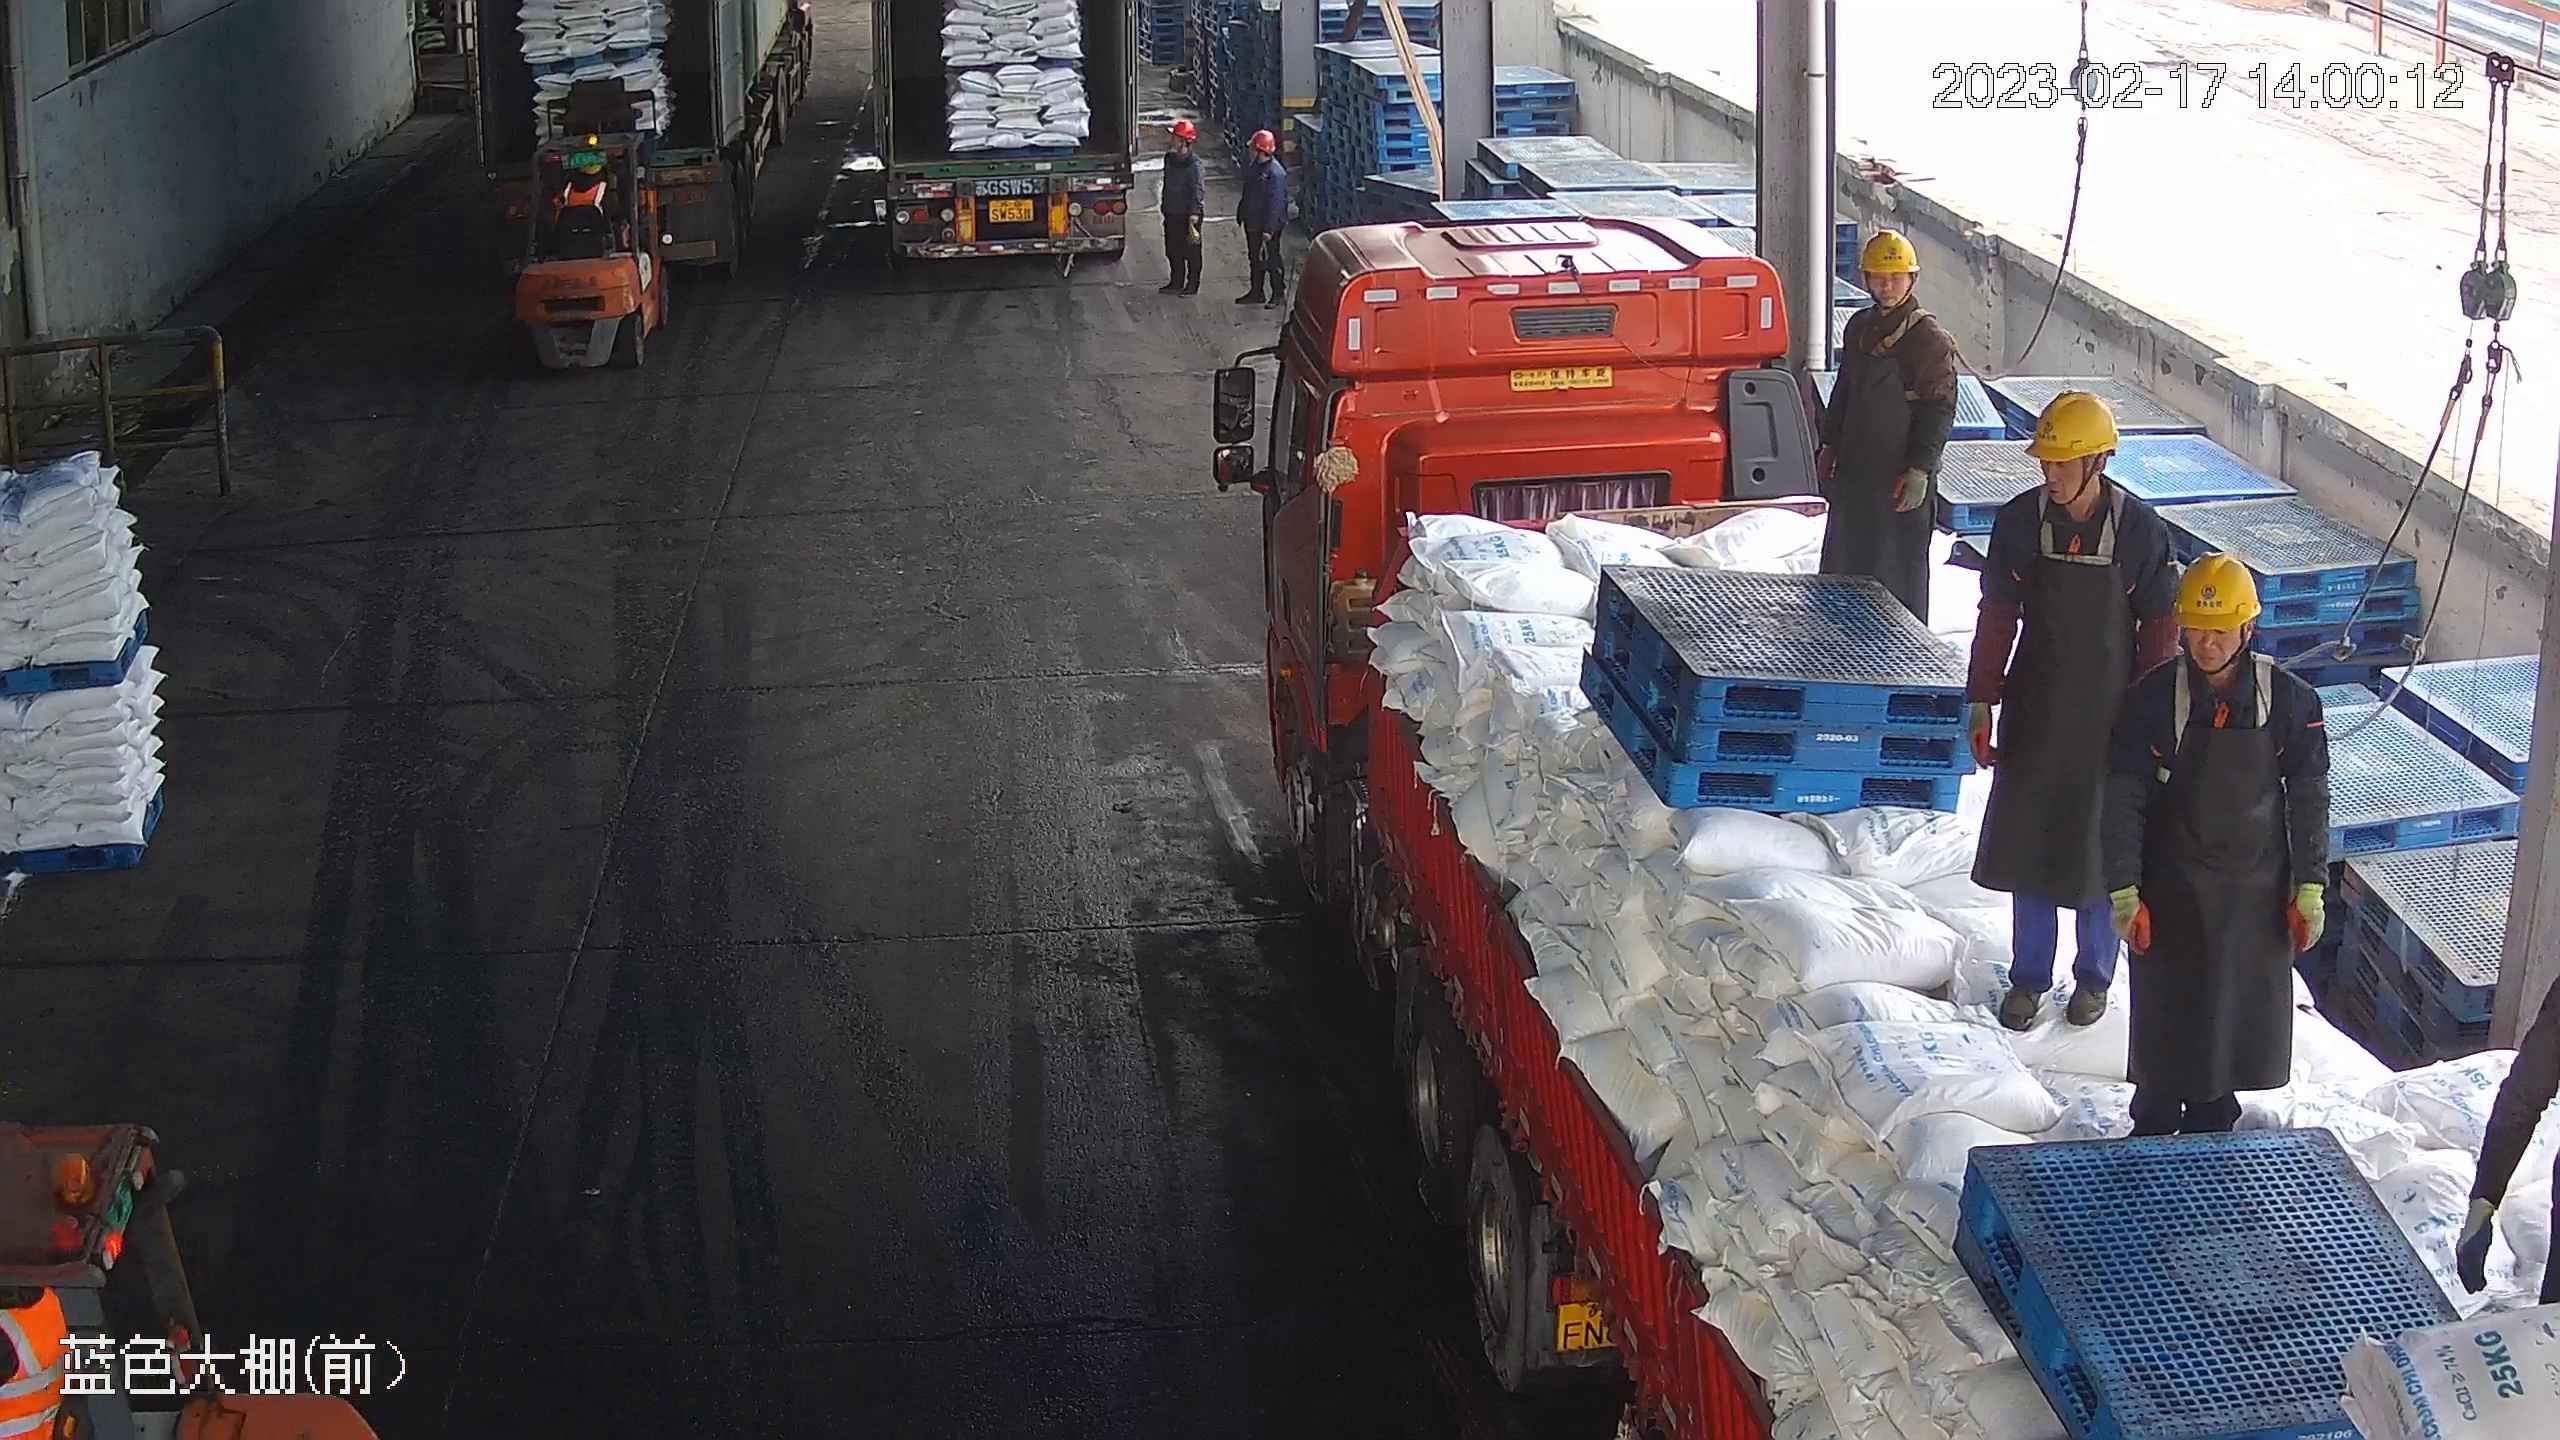belt: (2162, 642, 2287, 739), (2021, 477, 2136, 568), (1857, 300, 1949, 362)
head: (2113, 548, 2324, 738), (1975, 388, 2171, 561), (1824, 224, 1958, 376), (1240, 130, 1285, 187), (1161, 120, 1201, 175)
helmet: (2169, 544, 2267, 632), (2021, 386, 2124, 463), (1860, 221, 1924, 280), (1246, 129, 1275, 152), (1170, 120, 1198, 140)
people: (1962, 382, 2174, 1033), (2106, 548, 2332, 1141), (1814, 219, 1963, 622), (1234, 128, 1287, 307), (1153, 119, 1205, 299)
truck: (1208, 214, 2557, 1439), (462, 1, 821, 275), (864, 1, 1140, 279)
